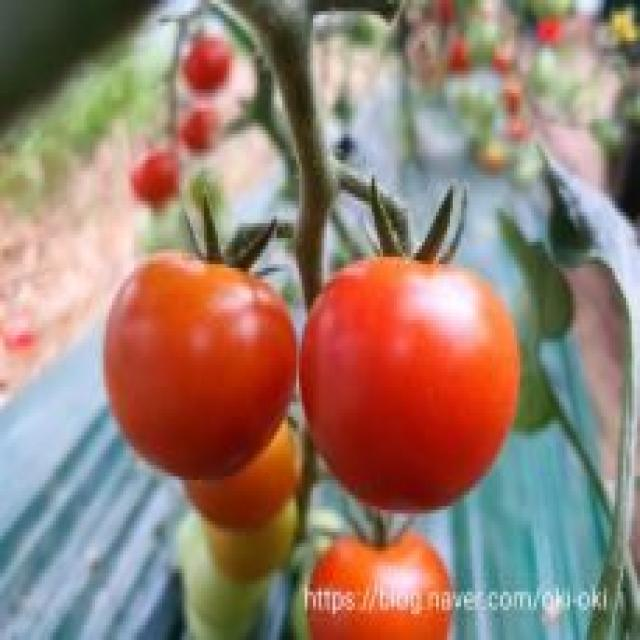level 2: (165, 511, 276, 628)
level 4: (192, 471, 302, 572)
level 5: (152, 390, 311, 532)
level 6: (302, 228, 542, 526), (102, 243, 315, 488), (294, 517, 461, 640), (174, 20, 247, 112), (126, 143, 198, 214), (176, 108, 224, 162), (442, 40, 472, 76), (434, 0, 458, 30), (537, 14, 559, 46)
